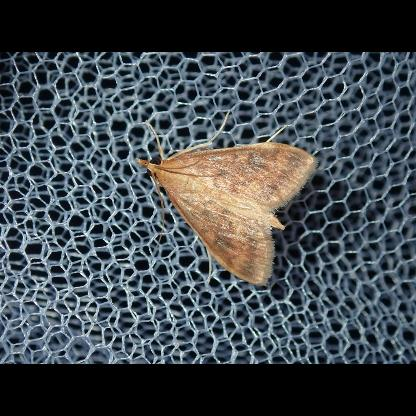Asian Corn Borer Moth: (134, 108, 322, 292)
